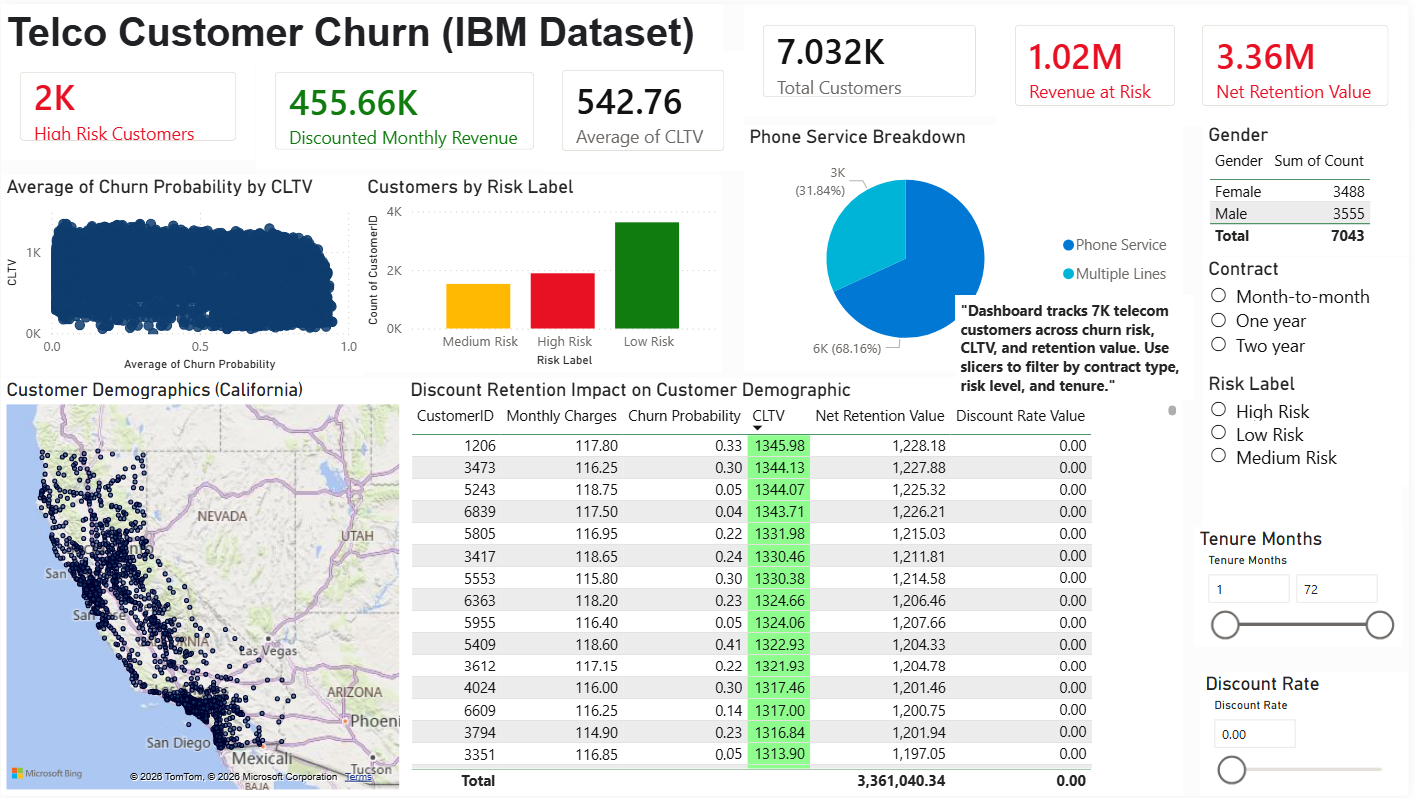

Layout of this report page (visuals, bound fields, positions):
{"tool":"powerbi","page":{"name":"Page 1","canvas":[1280,720],"ordinal":0},"visuals":[{"type":"slicer","title":"Discount Rate","fields":{"Values":["Discount Rate.Discount Rate"]},"box":[1090,607.1,188.6,111.4],"z":0},{"type":"cardVisual","fields":{"Data":["CountNonNull(Sheet1.CustomerID)"]},"box":[675.7,1.4,228.6,100],"z":1000},{"type":"cardVisual","fields":{"Data":["Sheet1.High Risk Customers"]},"box":[0,44.3,231.4,97.1],"z":2000},{"type":"clusteredColumnChart","title":"Customers by Risk Label","fields":{"Category":["Sheet1.Risk Label"],"Y":["CountNonNull(Sheet1.CustomerID)"]},"box":[328.6,155.7,327.1,178.6],"z":3000},{"type":"cardVisual","fields":{"Data":["Avg(Sheet1.CLTV)"]},"box":[492.9,42.9,182.9,108.6],"z":4000},{"type":"cardVisual","fields":{"Data":["Discount Rate.Revenue at Risk"]},"box":[904.3,1.4,180,108.6],"z":5000},{"type":"scatterChart","fields":{"X":["Avg(Sheet1.Churn Probability)"],"Y":["Sheet1.CLTV"]},"box":[0,155.7,328.6,182.9],"z":6000},{"type":"tableEx","title":"Discount Retention Impact on Customer Demographic","fields":{"Values":["Sheet1.CustomerID","Sheet1.Monthly Charges","Sheet1.Churn Probability","Sheet1.CLTV","Sheet1.Net Retention Value","Discount Rate.Discount Rate Value"]},"box":[367.1,340,707.1,380],"z":7000},{"type":"cardVisual","fields":{"Data":["Sheet1.Net Retention Value"]},"box":[1074.3,1.4,204.3,108.6],"z":8000},{"type":"listSlicer","fields":{"Values":["Sheet1.Contract"]},"box":[1092.9,230,187.1,208.6],"z":9000},{"type":"listSlicer","fields":{"Values":["Sheet1.Risk Label"]},"box":[1092.9,334.3,181.4,204.3],"z":10000},{"type":"slicer","title":"Tenure Months","fields":{"Values":["Sheet1.Tenure Months"]},"box":[1084.3,475.7,190,108.6],"z":11000},{"type":"textbox","box":[0,0,655.7,55.7],"z":12000},{"type":"map","title":"Customer Demographics (California)","fields":{"Size":["Count(Telco_Churn.Zip Code)"],"Category":["Telco_Churn.Zip Code"]},"box":[0,340,367.1,378.6],"z":13000},{"type":"tableEx","title":"Gender","fields":{"Values":["Telco_Churn.Gender","Sum(Telco_Churn.Count)"]},"box":[1092.9,108.6,187.1,121.4],"z":14000},{"type":"cardVisual","fields":{"Data":["Sheet1.Discounted Monthly Revenue"]},"box":[231.4,44.3,270,105.7],"z":15000},{"type":"pieChart","title":"Phone Service Breakdown","fields":{"Y":["Sum(Telco_Churn.Phone Service)","Sum(Telco_Churn.Multiple Lines)"]},"box":[675.7,110,398.6,224.3],"z":16000},{"type":"textbox","box":[867.1,264.3,217.1,95.7],"z":16001}]}

Visuals, with their boxes in screenshot pixels (x1, y1, x2, y2), scaled from the page's 1280x720 canvas onto the 1415x798 screenshot:
"Discount Rate" slicer: 1205/673/1413/796
cardVisual - CountNonNull(Sheet1.CustomerID): 747/2/1000/112
cardVisual - Sheet1.High Risk Customers: 0/49/256/157
"Customers by Risk Label" clusteredColumnChart: 363/173/725/371
cardVisual - Avg(Sheet1.CLTV): 545/48/747/168
cardVisual - Discount Rate.Revenue at Risk: 1000/2/1199/122
scatterChart - Avg(Sheet1.Churn Probability) x Sheet1.CLTV: 0/173/363/375
"Discount Retention Impact on Customer Demographic" tableEx: 406/377/1187/797
cardVisual - Sheet1.Net Retention Value: 1188/2/1413/122
listSlicer - Sheet1.Contract: 1208/255/1414/486
listSlicer - Sheet1.Risk Label: 1208/371/1409/597
"Tenure Months" slicer: 1199/527/1409/648
textbox: 0/0/725/62
"Customer Demographics (California)" map: 0/377/406/796
"Gender" tableEx: 1208/120/1414/255
cardVisual - Sheet1.Discounted Monthly Revenue: 256/49/554/166
"Phone Service Breakdown" pieChart: 747/122/1188/371
textbox: 959/293/1199/399
